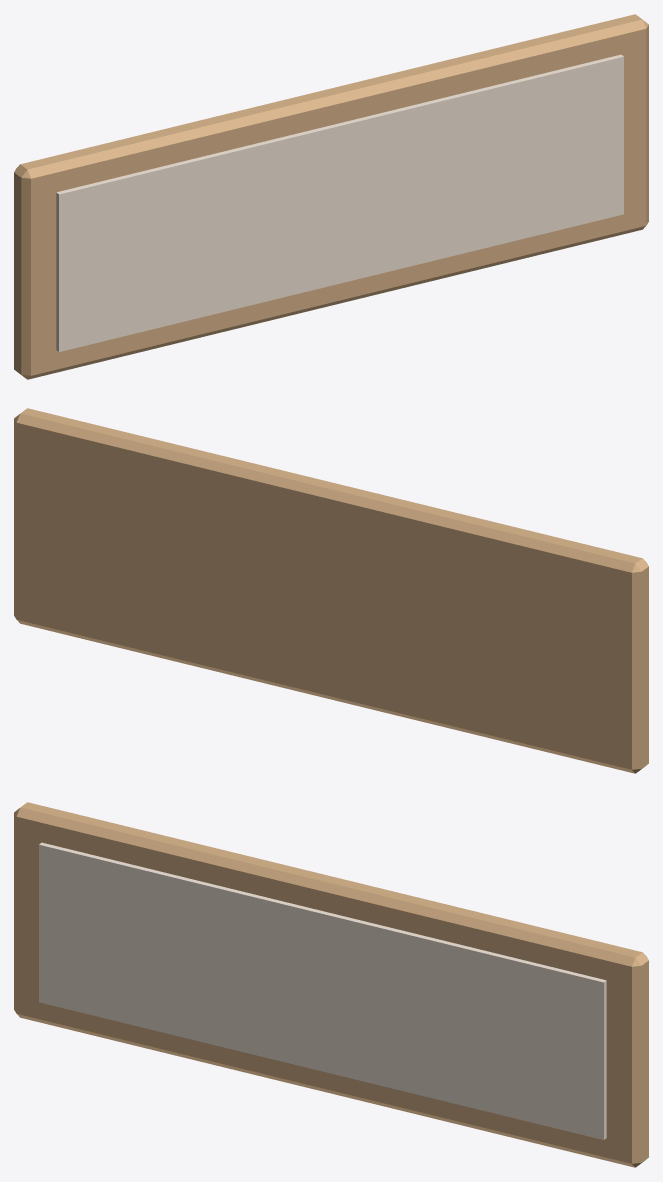
File: zone_sign.glb
3 renders of one model, top to bottom at view 1: azimuth 30°, elevation 25°; view 2: azimuth 150°, elevation 25°; view 3: azimuth 330°, elevation 25°, orthographic.
Parts seen in each view (by area): view 1: zone_sign; view 2: zone_sign; view 3: zone_sign.
Part boxes in pixels (<box>): zone_sign: <box>14,14,648,379</box>; zone_sign: <box>14,408,648,773</box>; zone_sign: <box>14,802,648,1167</box>.
Bounding box in the file's own units: 1 × 0.32 × 0.048.
1 material, 1 textured.
